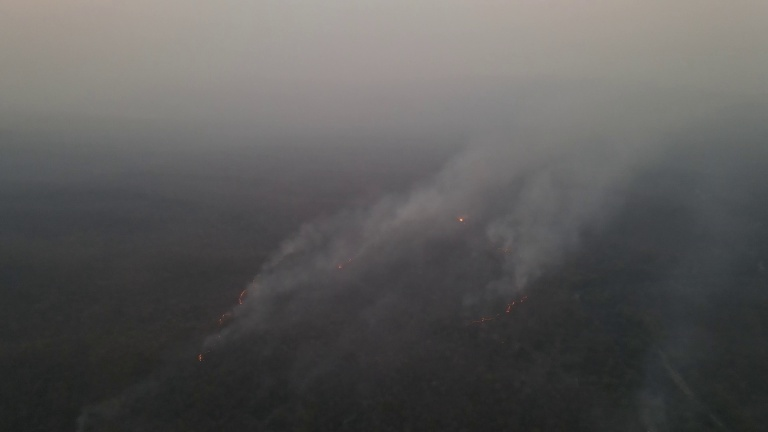fire: (455, 290, 532, 329), (215, 280, 254, 340), (492, 233, 522, 257), (333, 257, 356, 274), (195, 352, 206, 366), (456, 215, 466, 228)
smoke: (201, 104, 612, 357), (80, 371, 156, 424)
